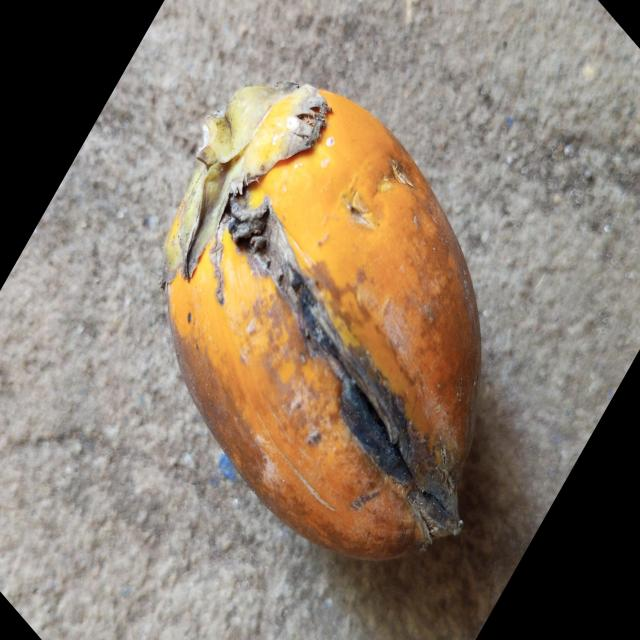damaged: (164, 82, 480, 558)
